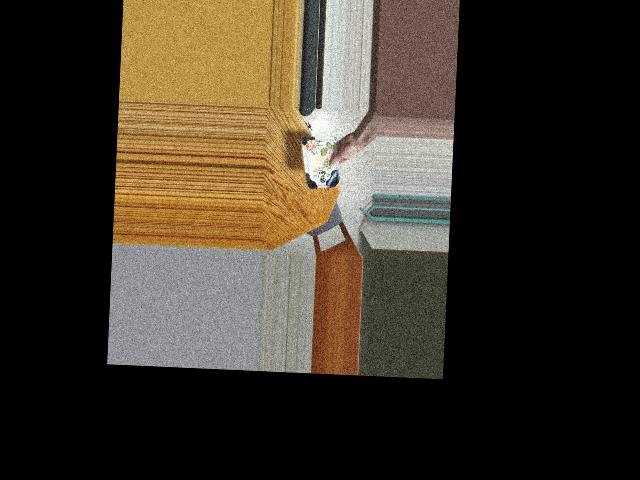cheese: (298, 135, 347, 188)
